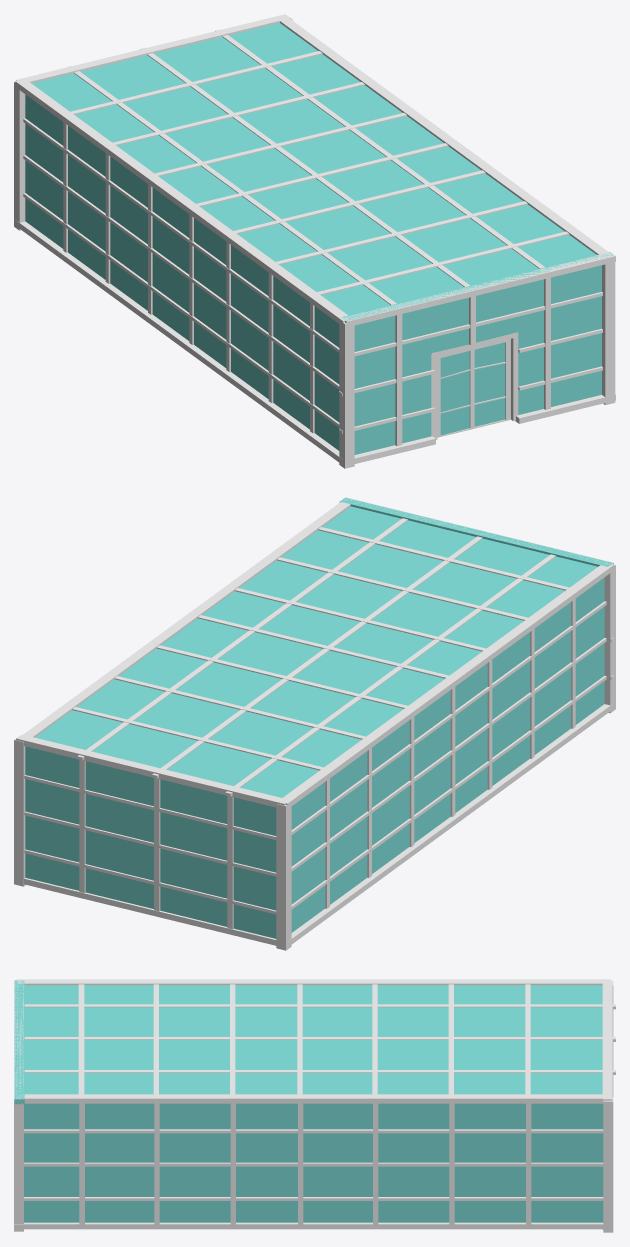
File: greenhouse04.fbx
3 renders of one model, top to bottom at view 1: azimuth 30°, elevation 25°; view 2: azimuth 150°, elevation 25°; view 3: azimuth 270°, elevation 25°, orthographic. The views are drawn at different scales.
Visible parts, largest first — view 1: greenhouse04, greenhouse04door; view 2: greenhouse04; view 3: greenhouse04.
Part boxes in pixels (x1,y1,x2,y2): greenhouse04: (14, 14, 615, 468); greenhouse04door: (437, 339, 510, 437); greenhouse04: (14, 497, 615, 950); greenhouse04: (14, 979, 615, 1232).
Size of the model in its own units: 562 by 288 by 1183.
